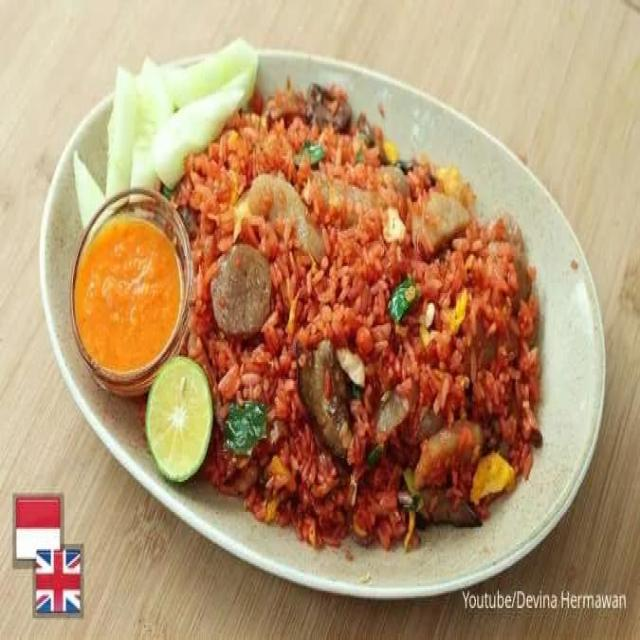Nasi Goreng: (173, 106, 534, 514)
